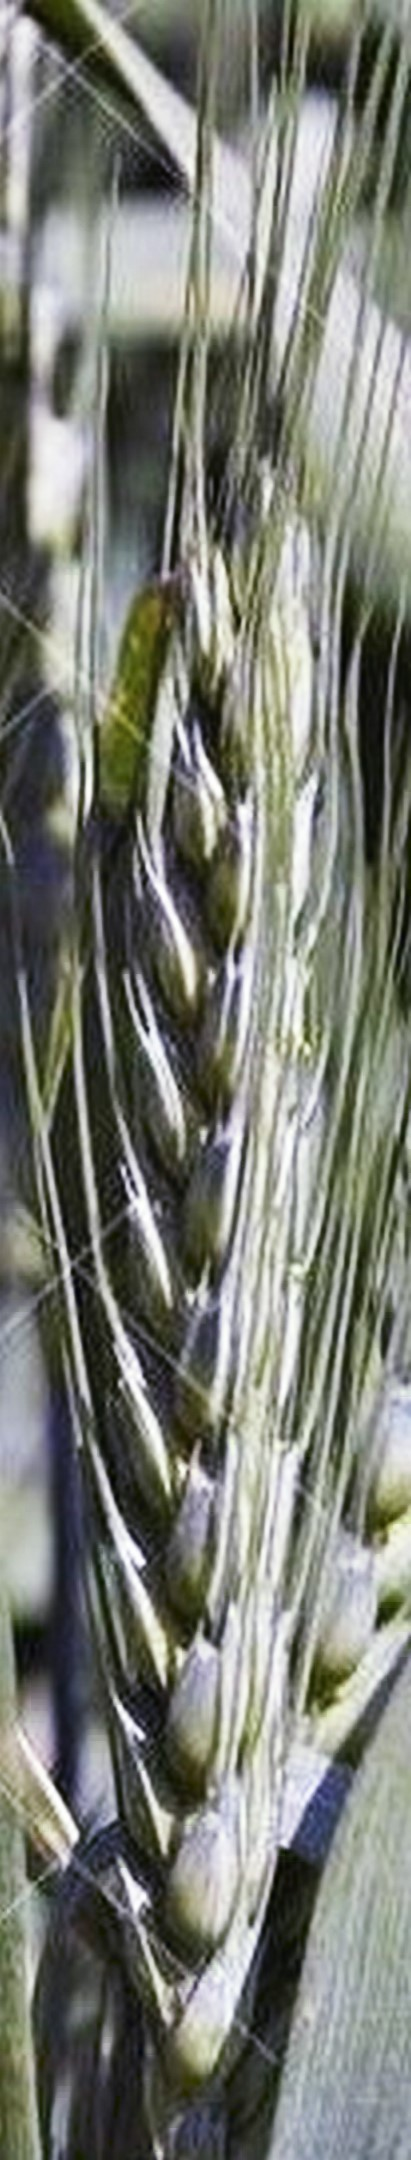Healthy Wheat: (52, 427, 350, 1924)
